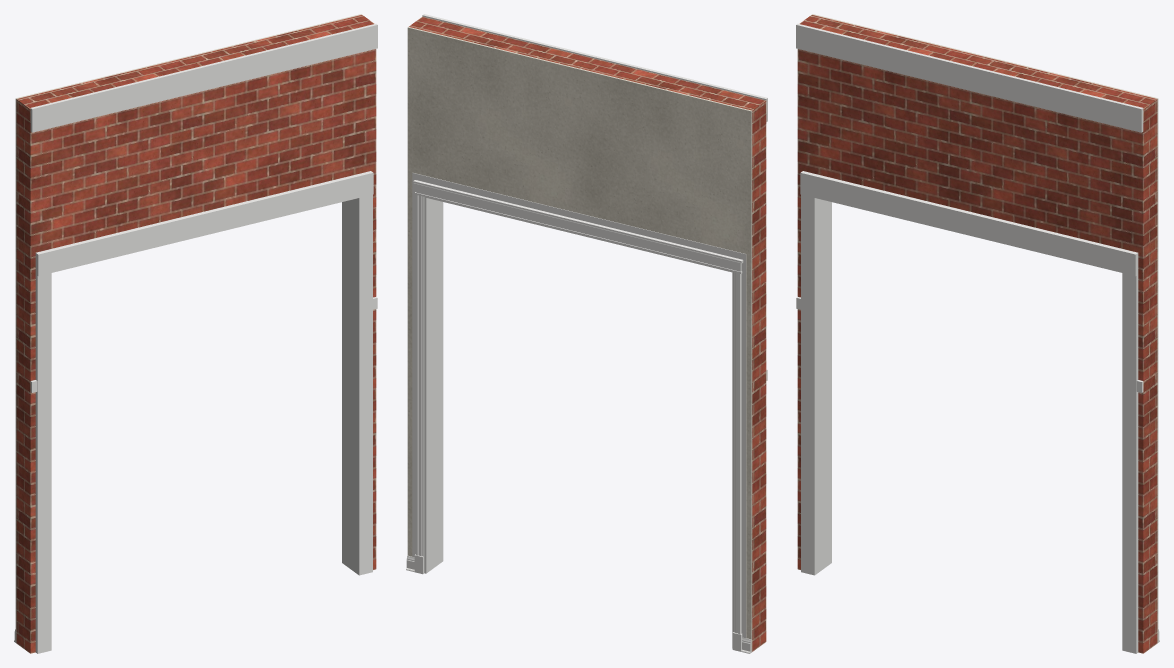
The model's file is wall_hall_bay.glb.
3 renders of one model, left to right at view 1: azimuth 30°, elevation 25°; view 2: azimuth 150°, elevation 25°; view 3: azimuth 330°, elevation 25°, orthographic.
Visible parts, largest first — view 1: wall_hall_bay_brick, wall_hall_bay_trim, wall_hall_bay_plaster; view 2: wall_hall_bay_plaster, wall_hall_bay_trim, wall_hall_bay_brick, molduras; view 3: wall_hall_bay_brick, wall_hall_bay_trim, wall_hall_bay_plaster.
Boxes of the visible parts, <box> form: wall_hall_bay_brick: <box>16,15,376,653</box>; wall_hall_bay_trim: <box>30,23,377,653</box>; wall_hall_bay_plaster: <box>15,14,361,643</box>; wall_hall_bay_plaster: <box>407,27,752,652</box>; wall_hall_bay_trim: <box>412,14,767,648</box>; wall_hall_bay_brick: <box>409,16,766,651</box>; molduras: <box>406,180,751,653</box>; wall_hall_bay_brick: <box>797,15,1157,653</box>; wall_hall_bay_trim: <box>796,23,1143,653</box>; wall_hall_bay_plaster: <box>812,14,1158,643</box>.
Bounding box in the file's own units: 4 × 6.03 × 0.392.
Materials: 3 (2 with a texture image).
